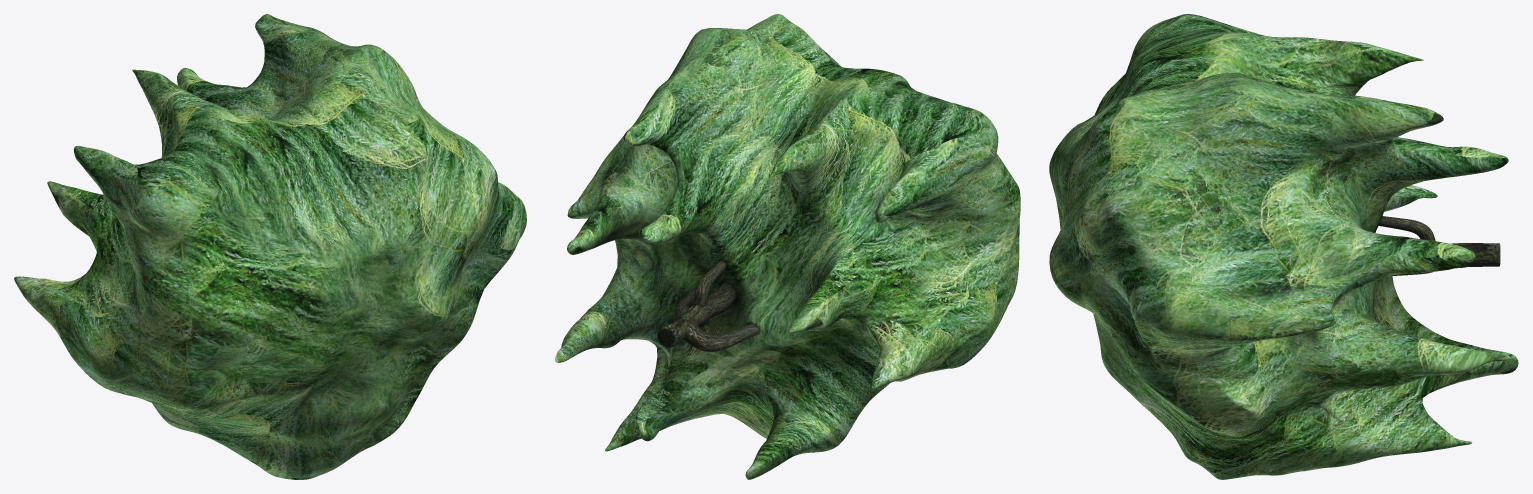
The model's file is 10457_Weeping_Willow_v1_L3.obj.
3 renders of one model, left to right at view 1: azimuth 30°, elevation 25°; view 2: azimuth 150°, elevation 25°; view 3: azimuth 270°, elevation 25°, orthographic. The views are drawn at different scales.
Parts seen in each view (by area): view 1: 10457_Weeping_Willow_v1; view 2: 10457_Weeping_Willow_v1; view 3: 10457_Weeping_Willow_v1.
Boxes of the visible parts, <box> form: 10457_Weeping_Willow_v1: <box>14,14,526,479</box>; 10457_Weeping_Willow_v1: <box>555,14,1020,479</box>; 10457_Weeping_Willow_v1: <box>1049,14,1518,479</box>.
Bounding box in the file's own units: 518 × 498 × 502.
1 material, 1 textured.
